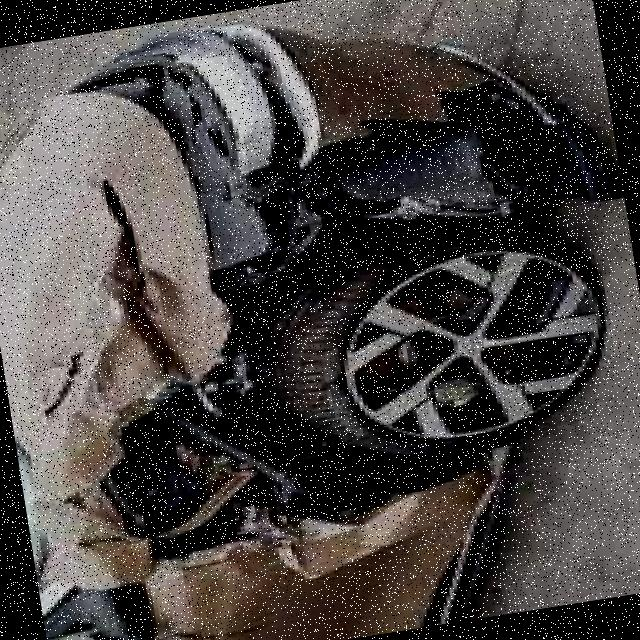Severe Damage: (0, 81, 640, 621)
